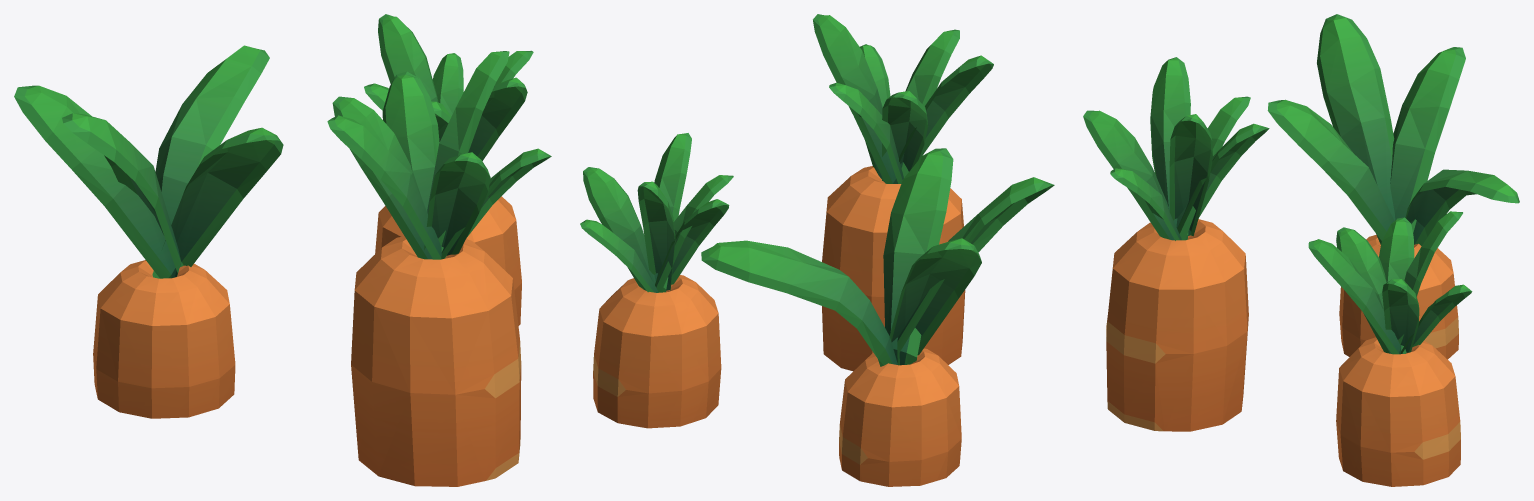
The model's file is crop_carrot_stage3.glb.
3 views of the same model, side by side, from view 1: azimuth 30°, elevation 25°; view 2: azimuth 150°, elevation 25°; view 3: azimuth 270°, elevation 25° (orthographic). The views are drawn at different scales.
Parts seen in each view (by area): view 1: crop_carrot_stage3; view 2: crop_carrot_stage3; view 3: crop_carrot_stage3.
Boxes of the visible parts, x1,y1,x2,y2 form: crop_carrot_stage3: (14,14,551,486); crop_carrot_stage3: (580,14,1054,486); crop_carrot_stage3: (1083,14,1519,486).
Size of the model in its own units: 0.4653 by 0.33 by 0.4144.
1 material, 1 textured.
